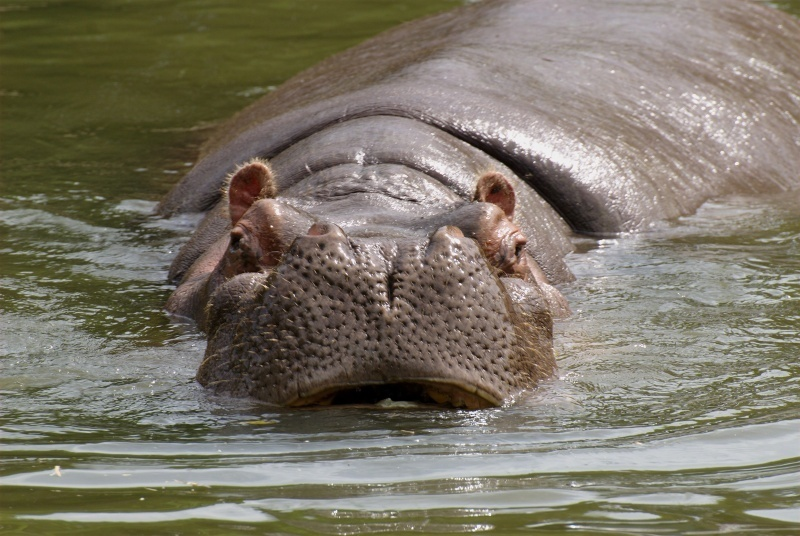hipopotamo: (142, 1, 800, 426)
